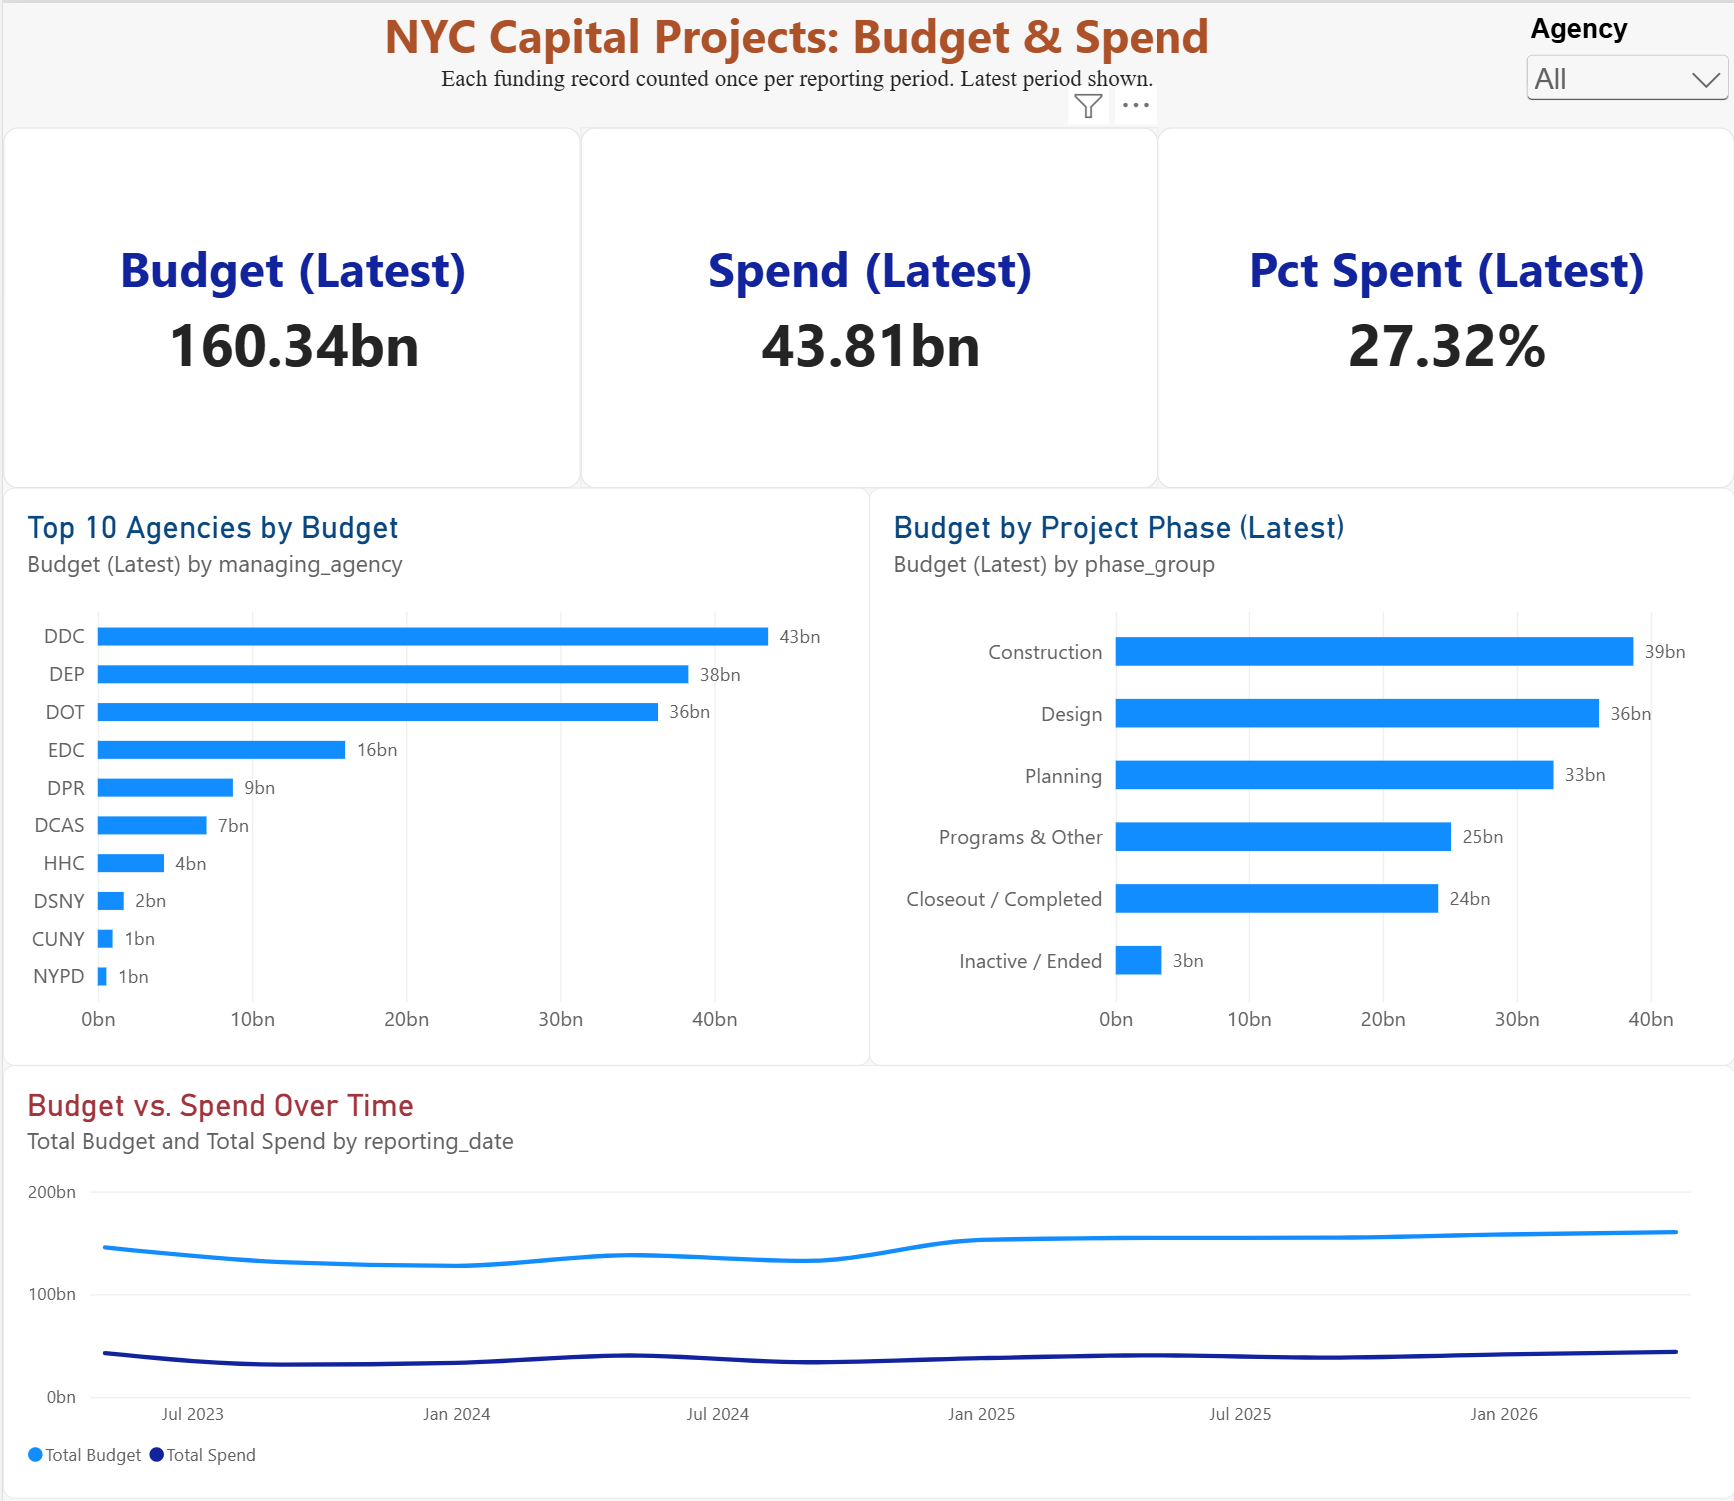

What the dashboard file says about the page in this screenshot:
{"tool":"powerbi","page":{"name":"Page 1","canvas":[1920,1080],"ordinal":0},"visuals":[{"type":"cardVisual","fields":{"Data":["v_dashboard.Budget (Latest)"]},"box":[0,86,400,250],"z":0},{"type":"cardVisual","fields":{"Data":["v_dashboard.Spend (Latest)"]},"box":[399.7,86,400,250],"z":1},{"type":"cardVisual","fields":{"Data":["v_dashboard.Pct Spent (Latest)"]},"box":[799.4,86,400,250],"z":2},{"type":"clusteredBarChart","title":"Top 10 Agencies by Budget","fields":{"Category":["v_dashboard.managing_agency"],"Y":["v_dashboard.Budget (Latest)"]},"box":[0,335.5,600,400],"z":3},{"type":"clusteredBarChart","title":"Budget by Project Phase (Latest)","fields":{"Category":["v_dashboard.phase_group"],"Y":["v_dashboard.Budget (Latest)"]},"box":[599.6,335.5,600,400],"z":4},{"type":"lineChart","title":"Budget vs. Spend Over Time","fields":{"Category":["v_dashboard.reporting_date"],"Y":["v_dashboard.Total Budget","v_dashboard.Total Spend"]},"box":[0,735.2,1200,300],"z":5},{"type":"slicer","fields":{"Values":["v_dashboard.managing_agency"]},"box":[1050.2,7.3,150,60],"z":6},{"type":"textbox","box":[186.5,0,726.7,67.8],"z":7}]}

Visuals, with their boxes on the page's 1920x1080 design canvas (x1, y1, x2, y2). These are canvas units, not pixel positions in the 1734x1501 screenshot, which may show the page scaled, cropped or inside an application window:
cardVisual - v_dashboard.Budget (Latest): detection(0, 86, 400, 336)
cardVisual - v_dashboard.Spend (Latest): detection(400, 86, 800, 336)
cardVisual - v_dashboard.Pct Spent (Latest): detection(799, 86, 1199, 336)
"Top 10 Agencies by Budget" clusteredBarChart: detection(0, 336, 600, 736)
"Budget by Project Phase (Latest)" clusteredBarChart: detection(600, 336, 1200, 736)
"Budget vs. Spend Over Time" lineChart: detection(0, 735, 1200, 1035)
slicer - v_dashboard.managing_agency: detection(1050, 7, 1200, 67)
textbox: detection(186, 0, 913, 68)
